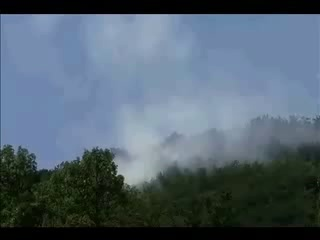smoke: (111, 14, 192, 188), (192, 56, 314, 170)
